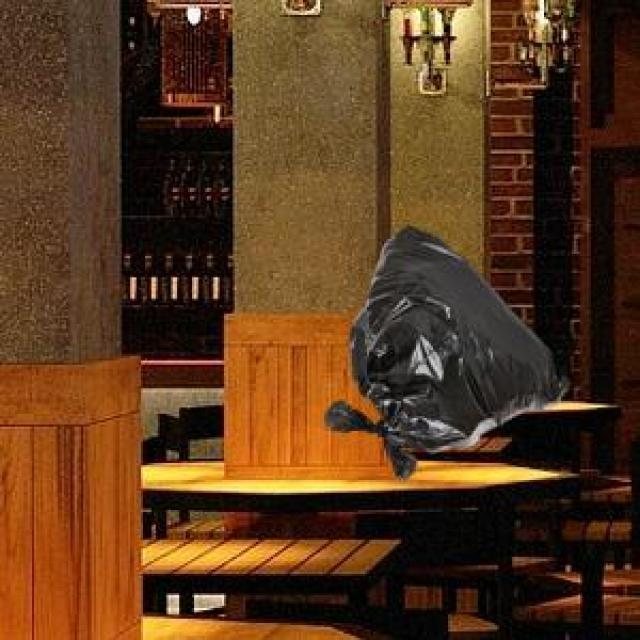miscellaneous trash: (322, 222, 565, 478)
